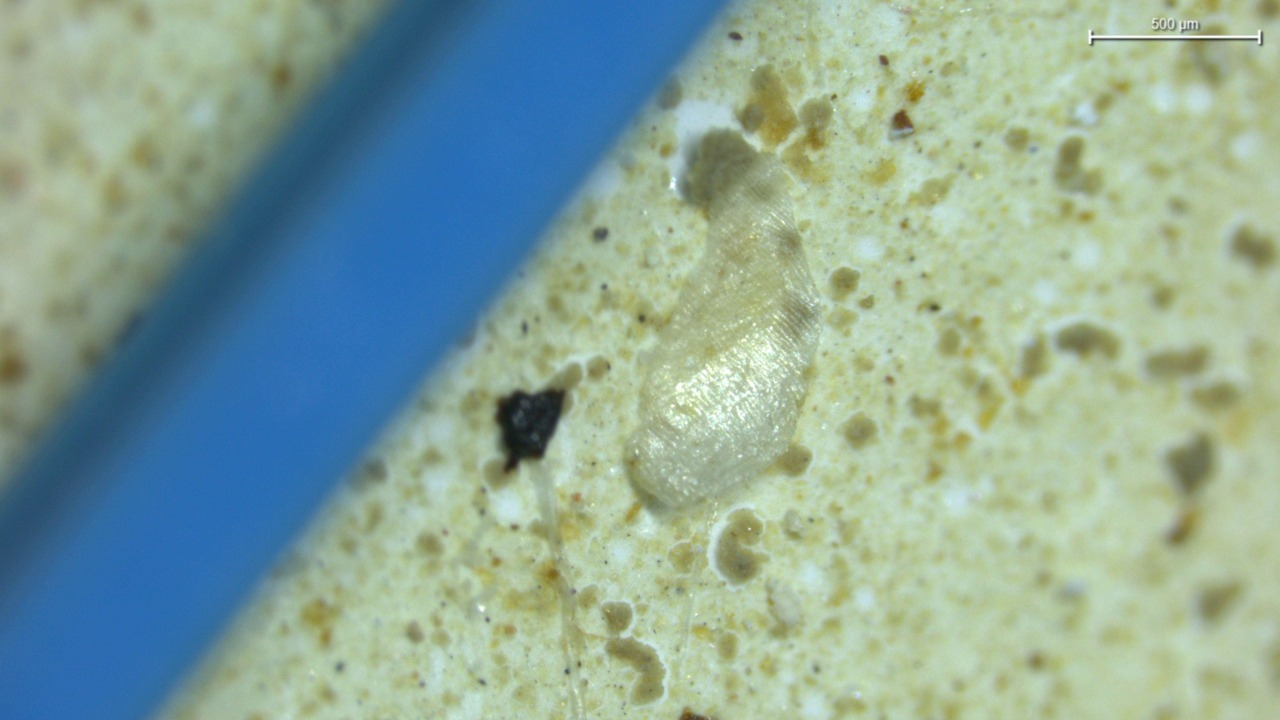microplastic_fragment: (631, 130, 822, 506)
